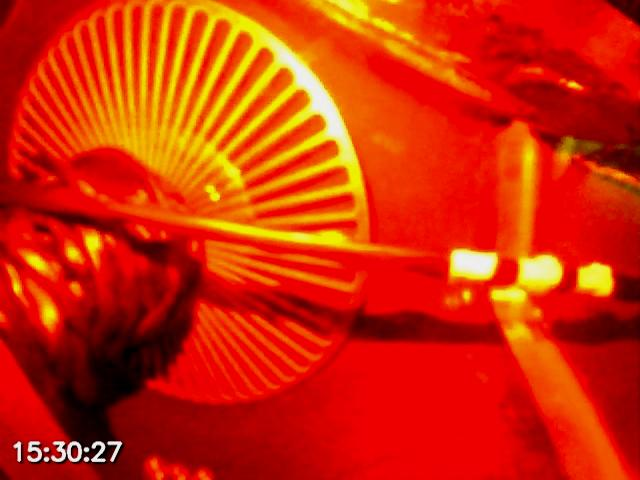white-dots: (448, 248, 615, 298)
